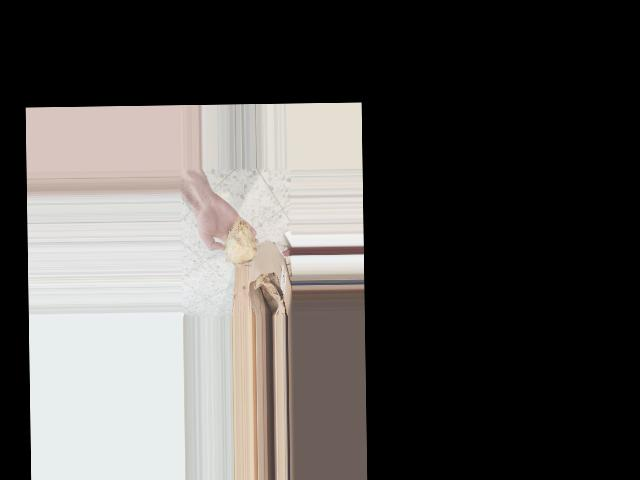onion: (222, 216, 258, 268)
